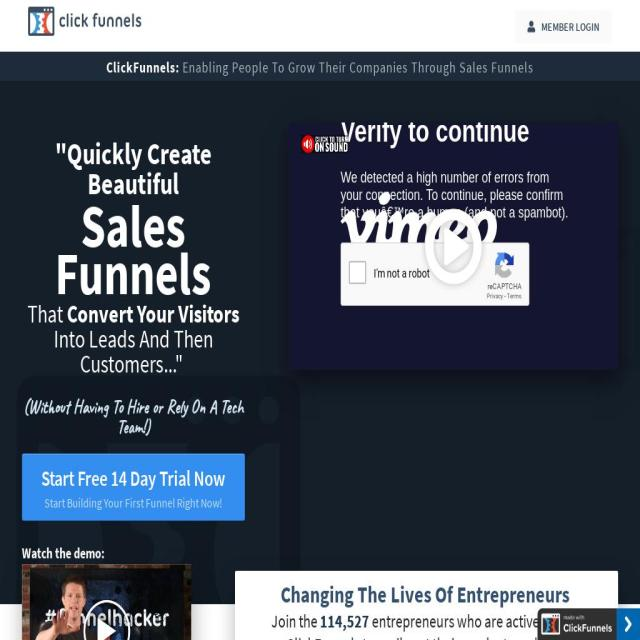button: (22, 453, 245, 521), (515, 10, 612, 43)
iframe: (288, 122, 618, 370)
image: (22, 564, 192, 640), (28, 6, 141, 36), (537, 608, 640, 639), (301, 134, 348, 154)
text: (55, 202, 212, 296), (23, 394, 244, 439), (54, 139, 212, 199), (286, 609, 583, 640), (53, 323, 213, 379), (280, 579, 573, 609), (182, 58, 534, 76), (66, 298, 240, 329), (41, 464, 226, 492), (38, 493, 229, 512), (27, 301, 67, 376), (22, 544, 104, 562), (106, 58, 182, 76), (320, 609, 370, 633), (271, 609, 320, 633), (542, 19, 600, 34)
